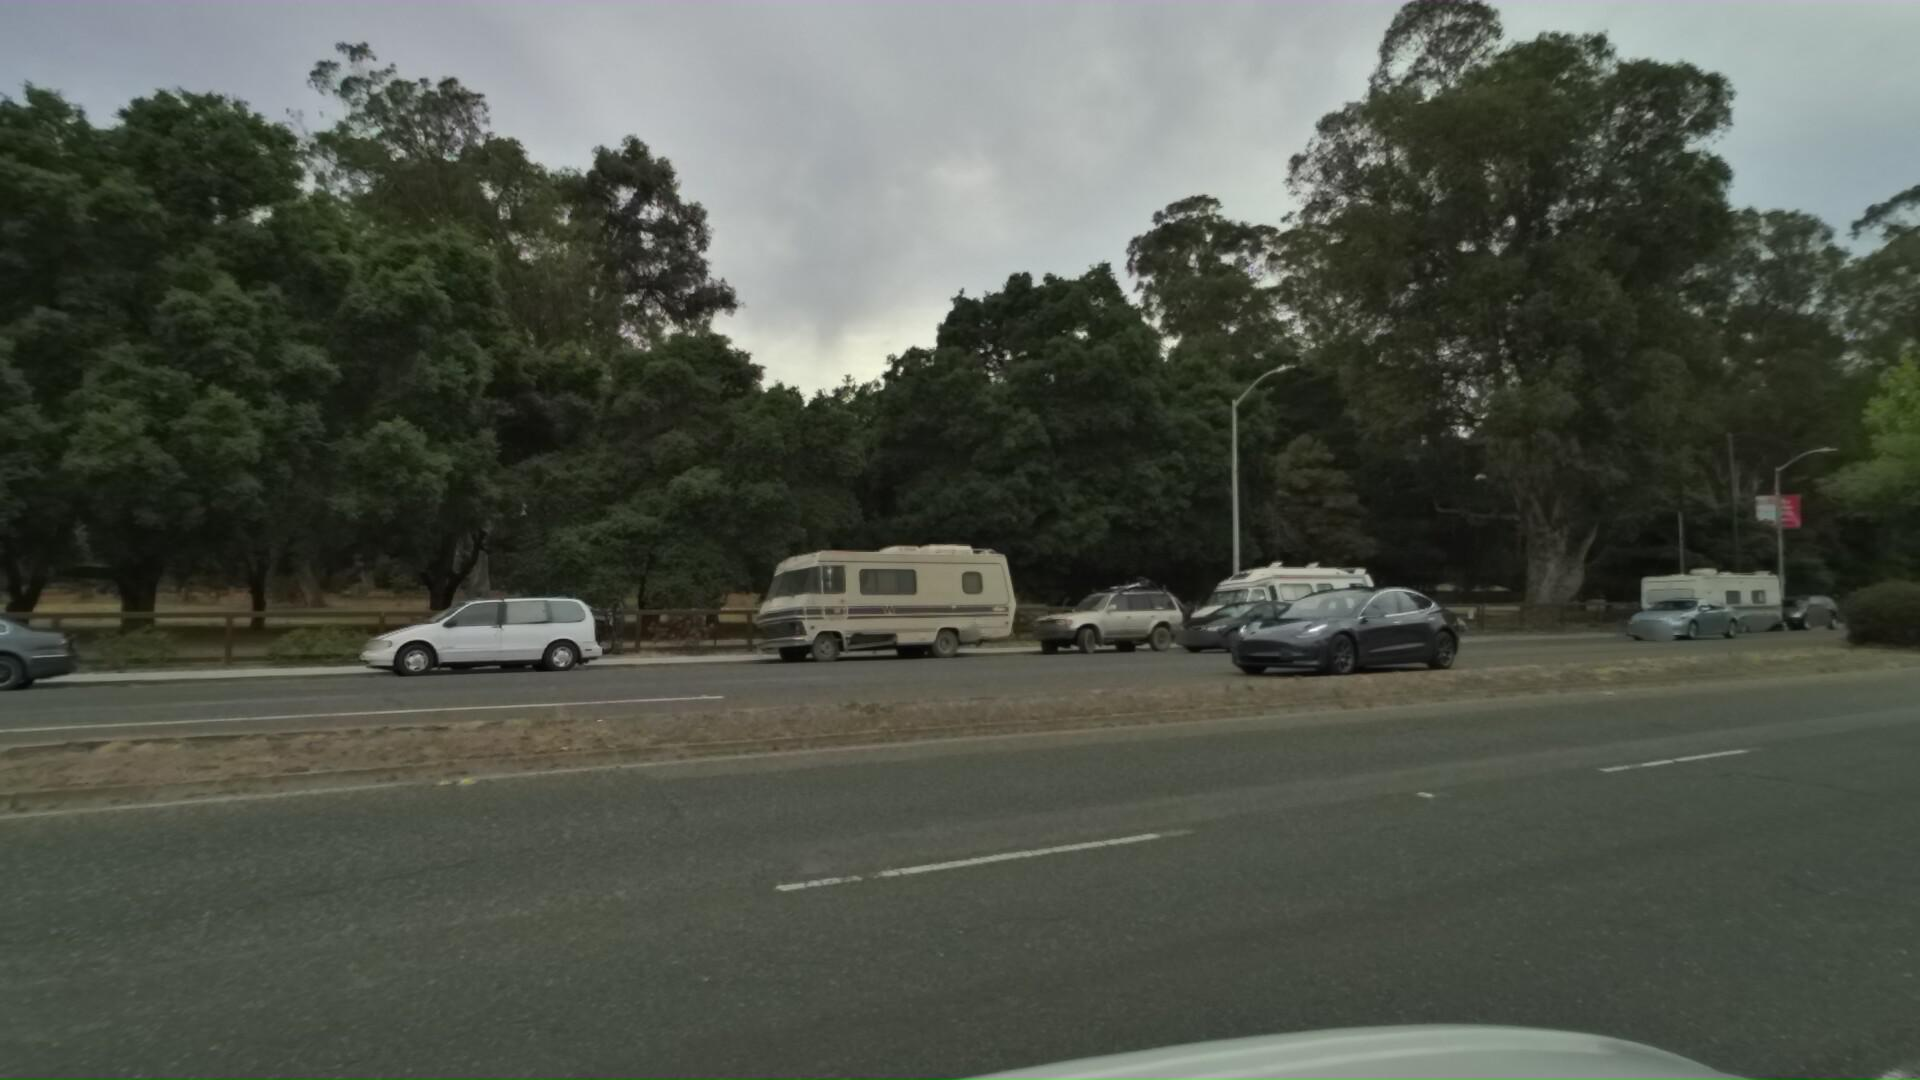car: (1174, 575, 1444, 683), (324, 585, 615, 683), (1007, 566, 1189, 655), (1131, 593, 1300, 655), (0, 603, 69, 715), (1593, 587, 1727, 640), (1341, 600, 1460, 647), (1746, 585, 1837, 625)
other_vehicle: (719, 527, 1015, 659), (1166, 551, 1378, 647), (1625, 558, 1780, 632)
